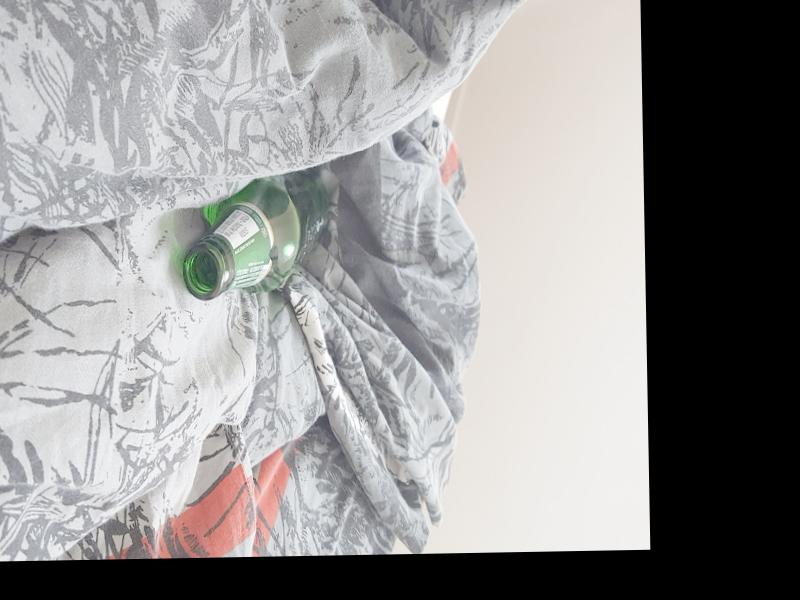Beer: (180, 178, 328, 296)
